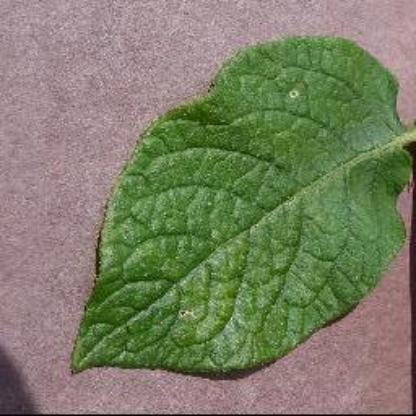Healthy-plant: (67, 34, 415, 382)
